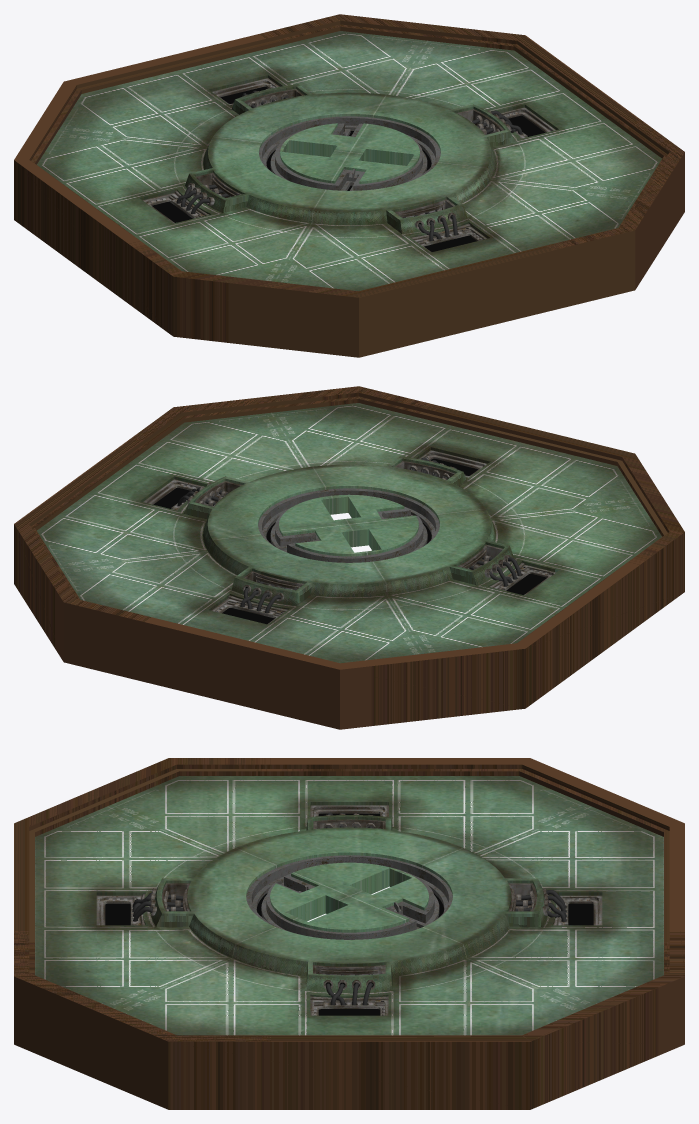
Rendered from tabletop blockout2.glb.
The picture shows the model from 3 angles, top to bottom: view 1: azimuth 30°, elevation 25°; view 2: azimuth 150°, elevation 25°; view 3: azimuth 270°, elevation 25°; orthographic projection. The views are drawn at different scales.
Parts seen in each view (by area): view 1: tabletop main padding_001, tabletop wood frame_001, tabletop inner padding_001, tabletop rotator frame_001, health indicator base4_001, health indicator base3_001, health indicator base1_001, health indicator base2_001; view 2: tabletop main padding_001, tabletop wood frame_001, tabletop inner padding_001, tabletop rotator frame_001, health indicator base3_001, health indicator base1_001, health indicator base2_001, health indicator base4_001; view 3: tabletop main padding_001, tabletop wood frame_001, tabletop inner padding_001, tabletop rotator frame_001, health indicator base1_001, health indicator base4_001, health indicator base2_001, health indicator base3_001.
Part boxes in pixels (box(x1,y1,x2,y2)): tabletop main padding_001: box(37, 31, 661, 291); tabletop wood frame_001: box(14, 14, 684, 357); tabletop inner padding_001: box(280, 123, 419, 183); tabletop rotator frame_001: box(259, 116, 440, 190); health indicator base4_001: box(394, 199, 486, 252); health indicator base3_001: box(143, 172, 241, 223); health indicator base1_001: box(457, 107, 555, 138); health indicator base2_001: box(212, 78, 289, 108); tabletop main padding_001: box(37, 403, 661, 663); tabletop wood frame_001: box(14, 386, 684, 729); tabletop inner padding_001: box(279, 494, 418, 556); tabletop rotator frame_001: box(258, 488, 439, 562); health indicator base3_001: box(457, 544, 555, 595); health indicator base1_001: box(143, 479, 242, 510); health indicator base2_001: box(211, 581, 296, 624); health indicator base4_001: box(394, 450, 486, 480); tabletop main padding_001: box(35, 776, 663, 1035); tabletop wood frame_001: box(14, 758, 684, 1109); tabletop inner padding_001: box(270, 862, 428, 932); tabletop rotator frame_001: box(246, 855, 452, 939); health indicator base1_001: box(310, 965, 388, 1015); health indicator base4_001: box(96, 883, 190, 925); health indicator base2_001: box(515, 888, 602, 925); health indicator base3_001: box(310, 805, 388, 829).
Size of the model in its own units: 22.59 by 2.74 by 22.59.
6 materials, 4 textured.
